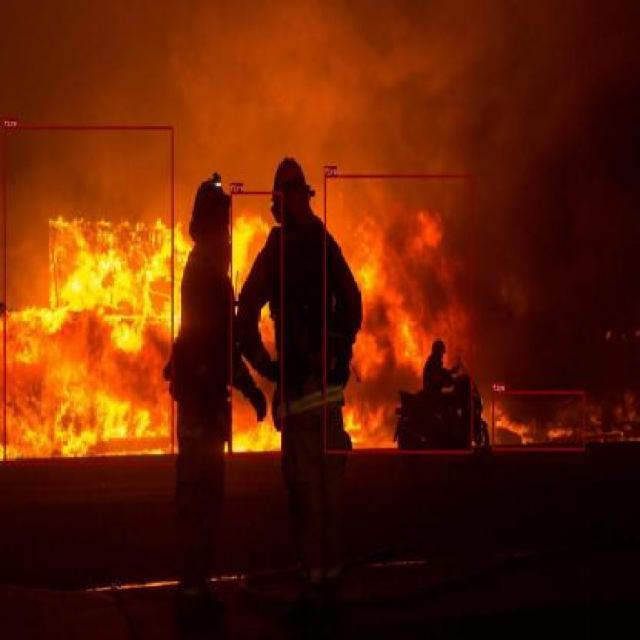fire: (4, 126, 173, 465), (324, 174, 473, 453), (230, 192, 282, 456), (492, 390, 585, 450)
